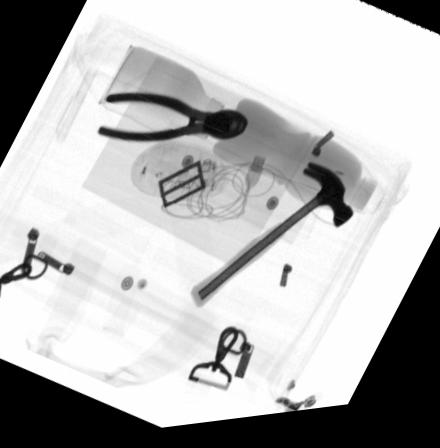Hammer: (189, 171, 354, 316)
Pliers: (96, 93, 249, 147)
